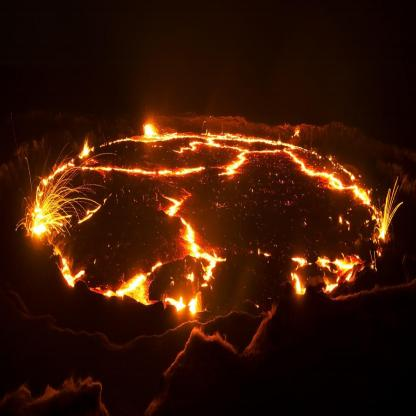fire: (14, 84, 405, 334)
